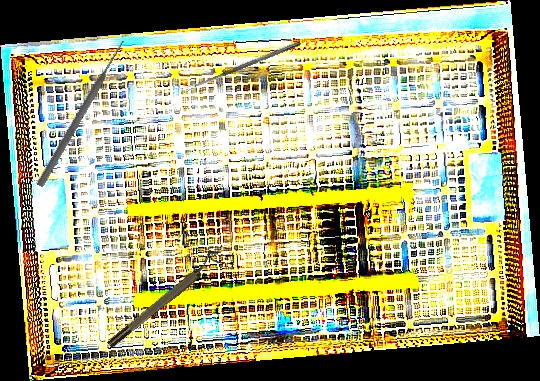Fixation Ring: (101, 247, 226, 351)
Pusher: (34, 38, 129, 189)
Surgical Spoon: (186, 40, 302, 91)
